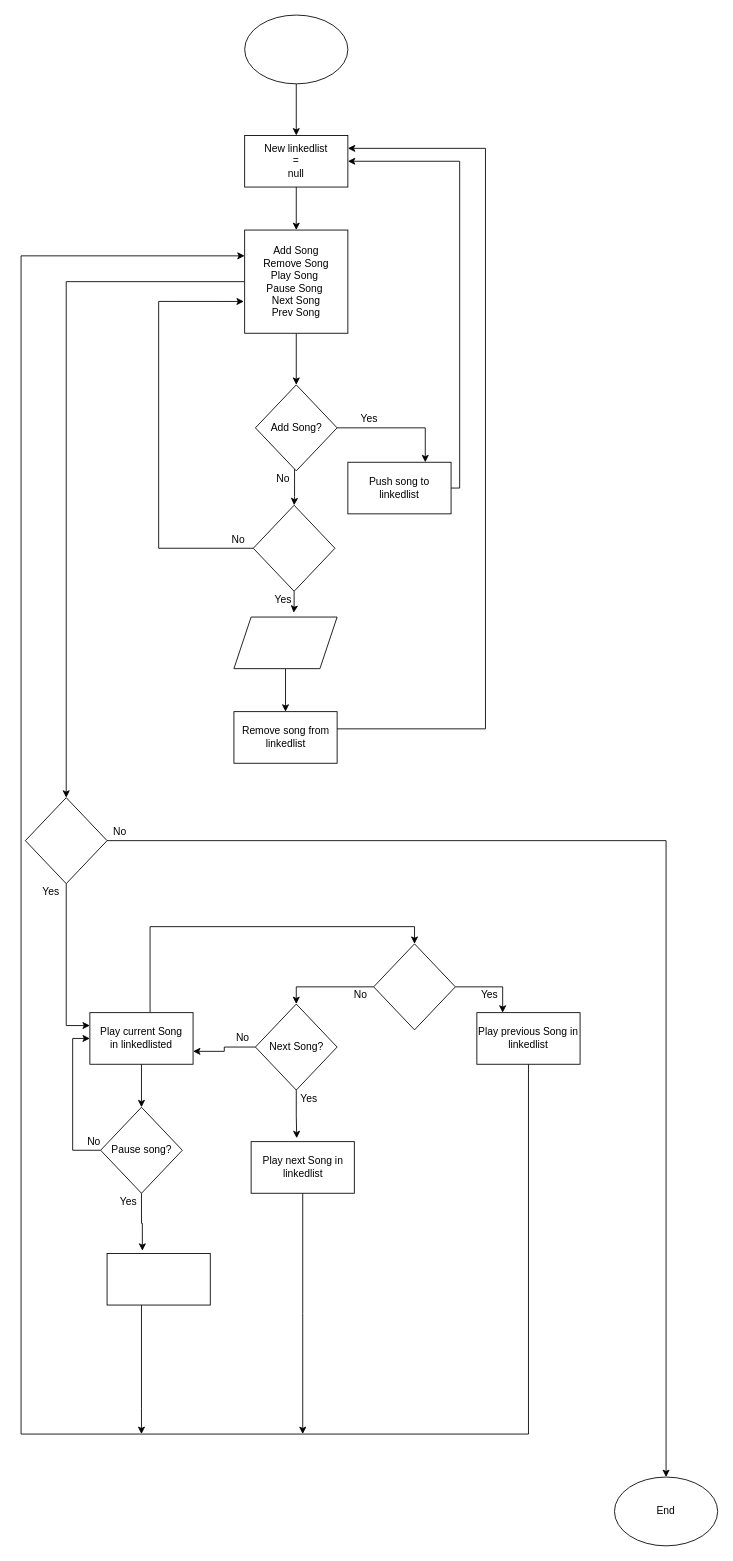
The diagram is 733 pixels wide and 1561 high, and some of its shapes have lost their labels. Here are the shapes that lost their labels. From the top down, the centre of each, then its label:
At point (296, 49): "Start".
At point (293, 547): "Remove Song?".
At point (285, 642): "Enter Song name".
At point (66, 840): "Play Song?".
At point (414, 986): "Previous Song?".
At point (158, 1279): "Pause current Song in linkedlist".
